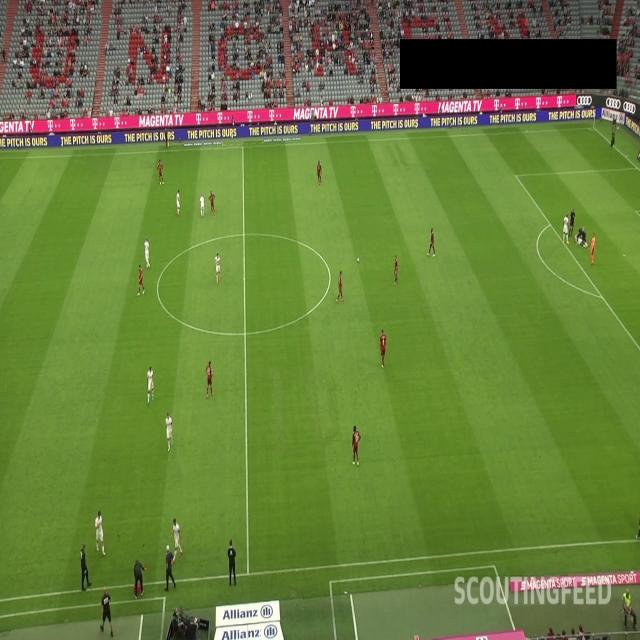ball: (355, 251, 363, 266)
player: (94, 508, 110, 556), (348, 422, 364, 469), (170, 519, 183, 557), (378, 329, 389, 369), (164, 412, 175, 449), (428, 220, 438, 258), (207, 357, 215, 398), (143, 237, 152, 269), (337, 269, 346, 300), (146, 363, 153, 402), (574, 228, 589, 246), (214, 247, 221, 284), (315, 153, 323, 185), (562, 211, 570, 241), (136, 261, 143, 295), (392, 255, 400, 281), (157, 157, 165, 183), (210, 188, 217, 215), (592, 234, 598, 264), (200, 190, 206, 213), (176, 188, 181, 215)
